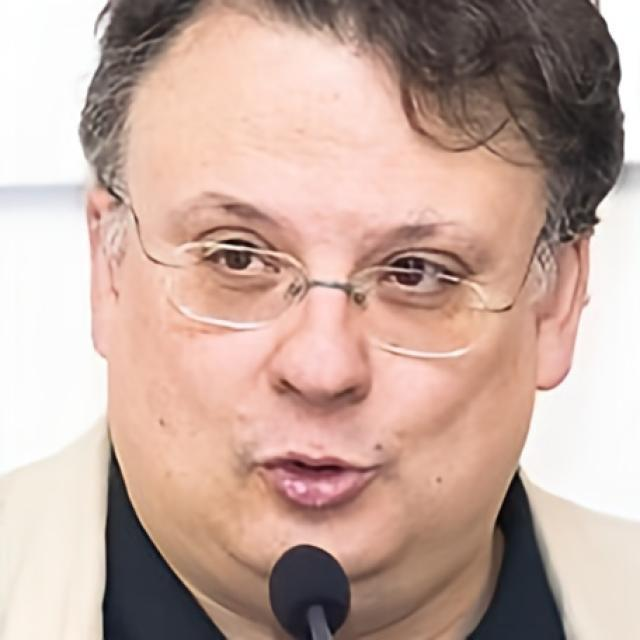surprise: (106, 0, 534, 639)
